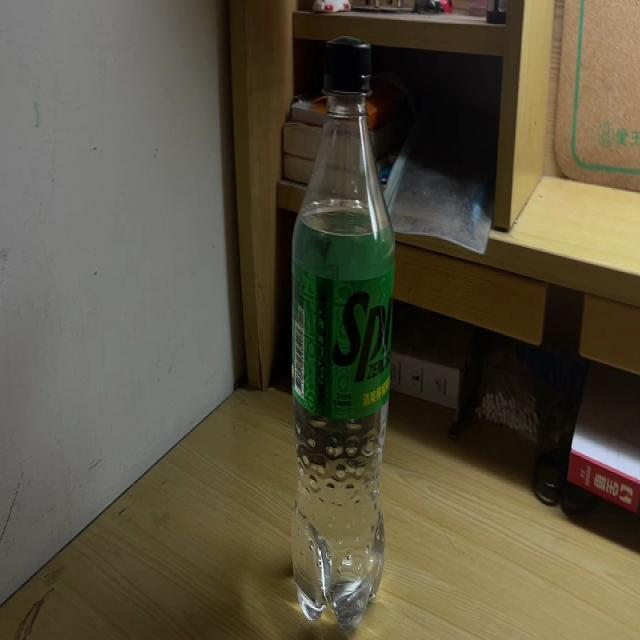Sprite: (288, 36, 396, 640)
